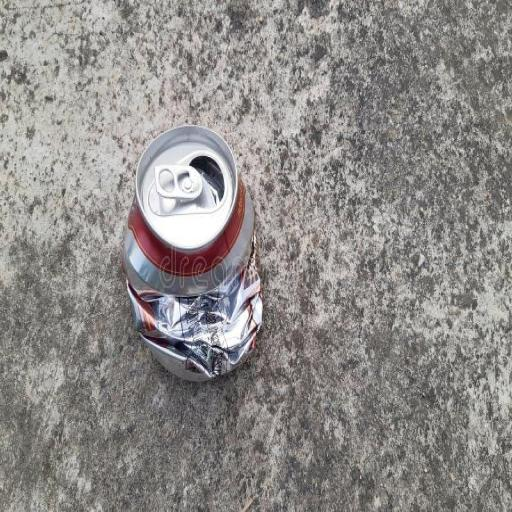can: (124, 125, 264, 385)
pop tab: (154, 161, 203, 197)
